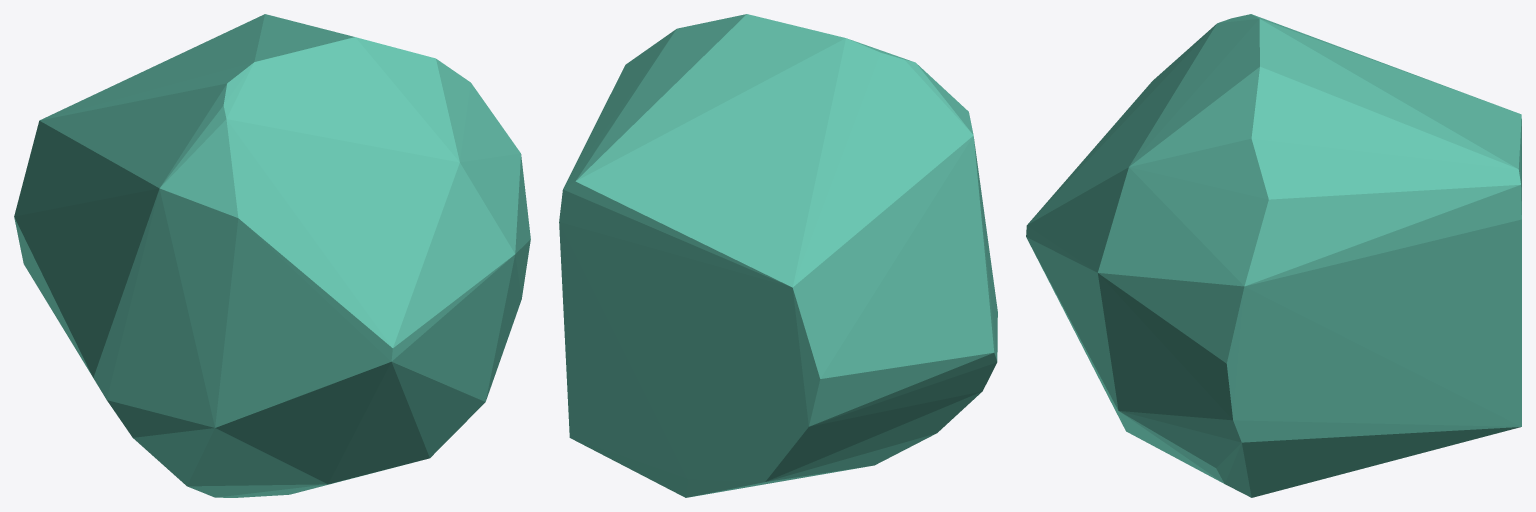
Rendered from food_prepared_cupcake_g01.glb.
The picture shows the model from 3 angles, left to right: view 1: azimuth 30°, elevation 25°; view 2: azimuth 150°, elevation 25°; view 3: azimuth 270°, elevation 25°; orthographic projection. The views are drawn at different scales.
Parts seen in each view (by area): view 1: geometry_0; view 2: geometry_0; view 3: geometry_0.
Boxes of the visible parts, left/top/right/bottom form: geometry_0: left=14, top=14, right=530, bottom=497; geometry_0: left=559, top=14, right=997, bottom=497; geometry_0: left=1026, top=14, right=1521, bottom=497.
Bounding box in the file's own units: 0.4511 × 0.4549 × 0.4785.
